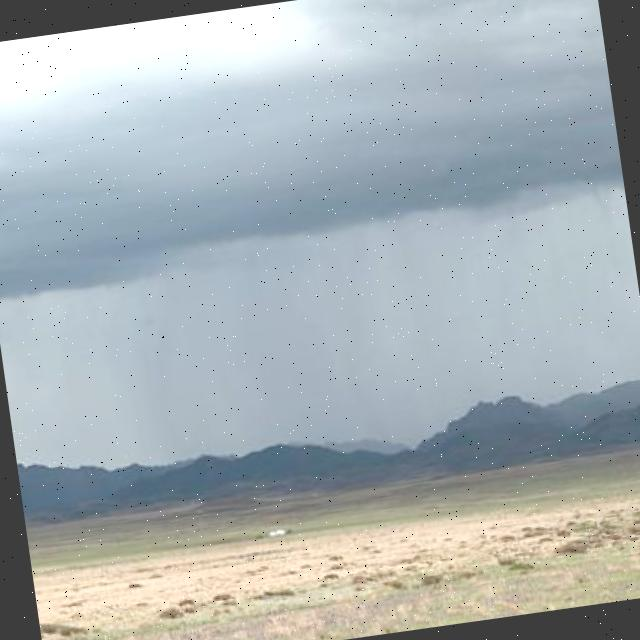Ns: (1, 1, 629, 307)
